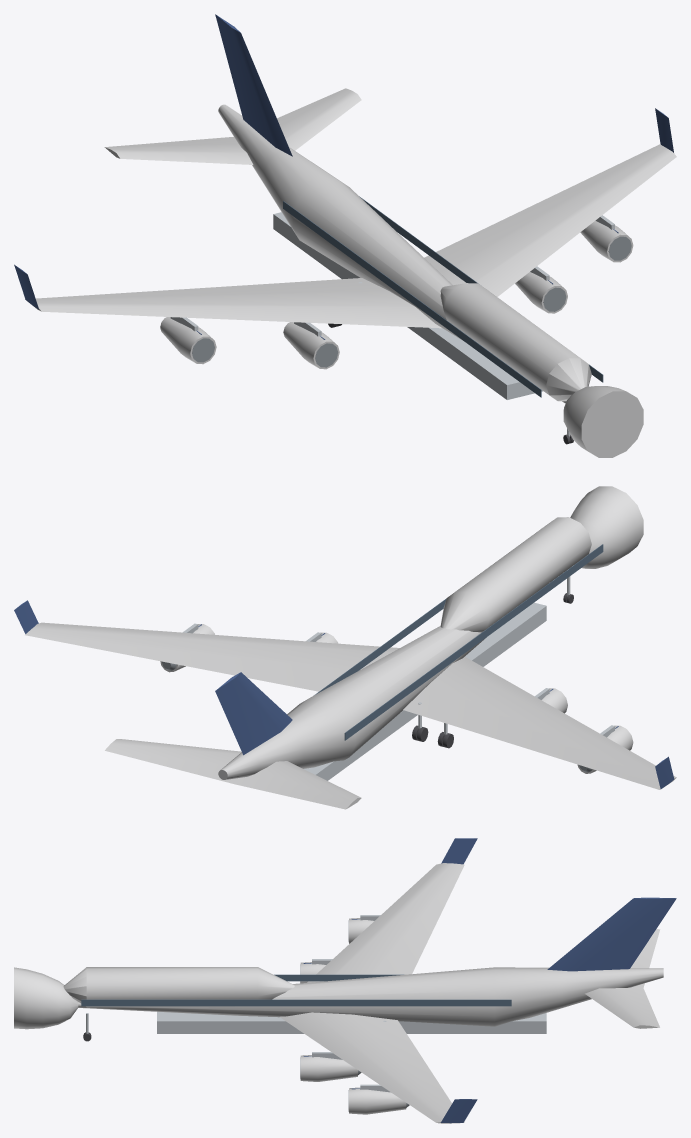
Rendered from gros_porteur.glb.
The picture shows the model from 3 angles, top to bottom: view 1: azimuth 30°, elevation 25°; view 2: azimuth 150°, elevation 25°; view 3: azimuth 270°, elevation 25°; orthographic projection. The views are drawn at different scales.
Parts seen in each view (by area): view 1: fuselage, ailes, empennage, moteurs; view 2: fuselage, ailes, empennage, moteurs, train; view 3: fuselage, ailes, empennage, moteurs.
Boxes of the visible parts, left/top/right/bottom form: fuselage: left=218, top=104, right=643, bottom=457; ailes: left=14, top=108, right=676, bottom=328; empennage: left=104, top=14, right=361, bottom=164; moteurs: left=160, top=215, right=633, bottom=369; fuselage: left=218, top=486, right=643, bottom=780; ailes: left=14, top=600, right=676, bottom=789; empennage: left=105, top=672, right=361, bottom=809; moteurs: left=160, top=623, right=633, bottom=773; train: left=412, top=576, right=573, bottom=748; fuselage: left=14, top=967, right=663, bottom=1033; ailes: left=280, top=838, right=477, bottom=1123; empennage: left=547, top=897, right=676, bottom=1028; moteurs: left=300, top=915, right=409, bottom=1114.
Size of the model in its own units: 64.7 by 16.4 by 69.4.
